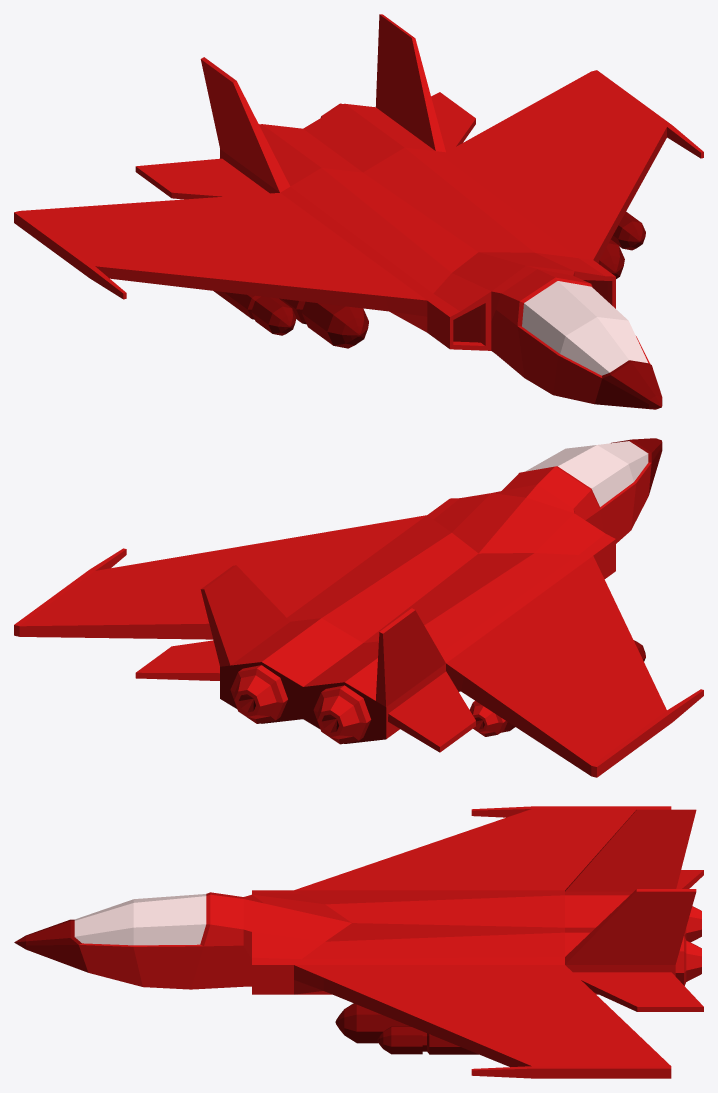
File: Jet.glb
3 views of the same model, one above another, from view 1: azimuth 30°, elevation 25°; view 2: azimuth 150°, elevation 25°; view 3: azimuth 270°, elevation 25° (orthographic). The views are drawn at different scales.
Parts seen in each view (by area): view 1: Jet_Cube.024; view 2: Jet_Cube.024; view 3: Jet_Cube.024.
Part boxes in pixels (bbox=[...]): Jet_Cube.024: bbox=[14, 14, 703, 409]; Jet_Cube.024: bbox=[14, 438, 703, 777]; Jet_Cube.024: bbox=[14, 806, 703, 1078].
Size of the model in its own units: 9.95 by 2.4 by 11.07.
